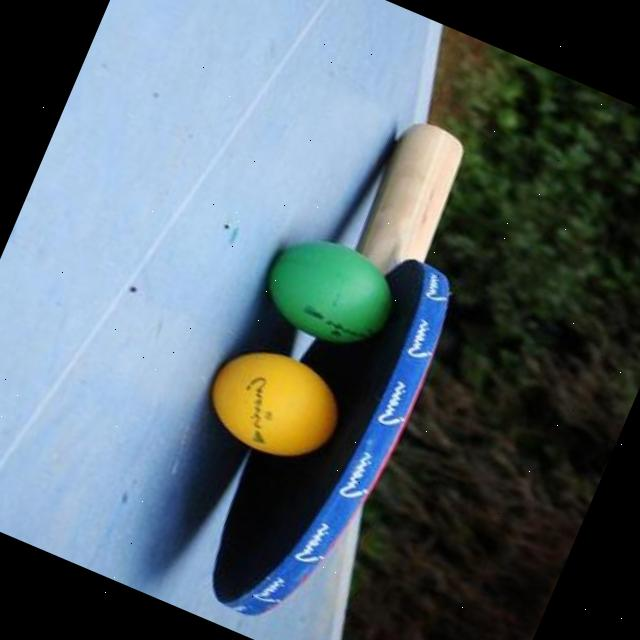ping-pong-ball: (192, 330, 354, 474), (253, 222, 408, 360)
